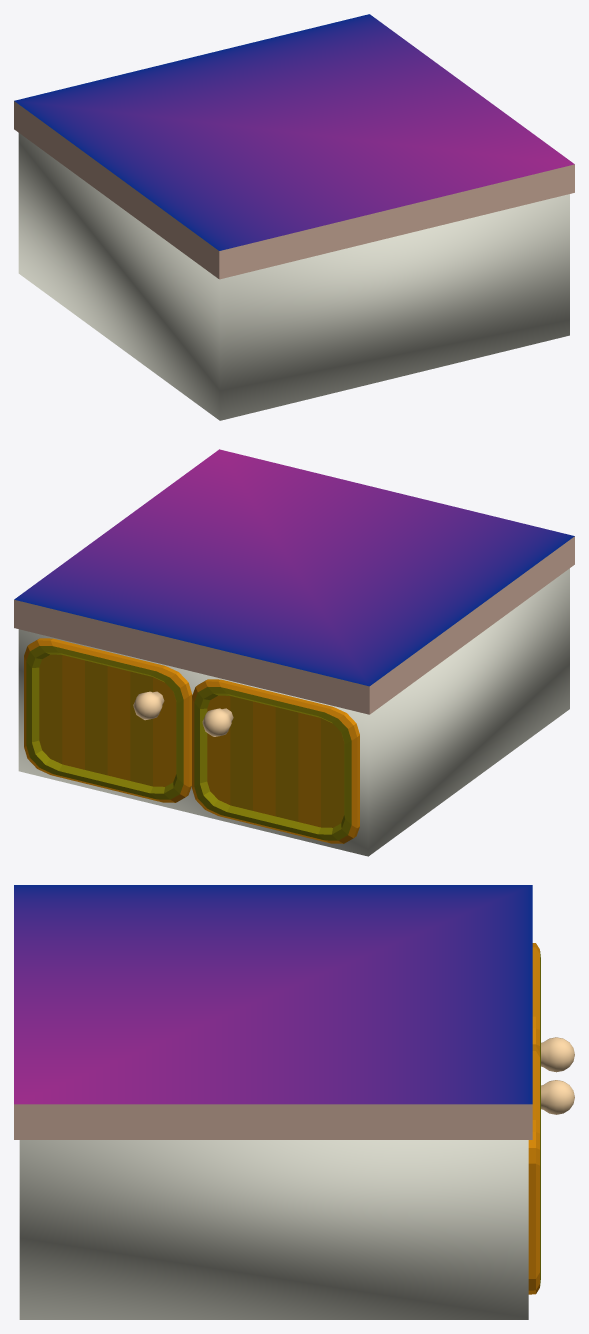
The model's file is Counter.fbx.
3 renders of one model, top to bottom at view 1: azimuth 30°, elevation 25°; view 2: azimuth 150°, elevation 25°; view 3: azimuth 270°, elevation 25°, orthographic. The views are drawn at different scales.
Parts seen in each view (by area): view 1: Body, Top, Top Rim; view 2: Top, Doors, Body, Top Rim, Handles; view 3: Top, Body, Top Rim, Doors, Handles.
Part boxes in pixels (left/top/right/bottom): Body: left=18, top=133, right=569, bottom=420; Top: left=14, top=14, right=574, bottom=250; Top Rim: left=14, top=101, right=574, bottom=279; Top: left=14, top=449, right=574, bottom=686; Doors: left=24, top=638, right=359, bottom=843; Body: left=18, top=568, right=569, bottom=856; Top Rim: left=14, top=536, right=574, bottom=714; Handles: left=133, top=691, right=233, bottom=736; Top: left=14, top=885, right=532, bottom=1104; Body: left=19, top=1140, right=528, bottom=1319; Top Rim: left=14, top=1104, right=532, bottom=1139; Doors: left=528, top=943, right=540, bottom=1294; Handles: left=541, top=1037, right=574, bottom=1114.
Bounding box in the file's own units: 100 × 46.23 × 108.
